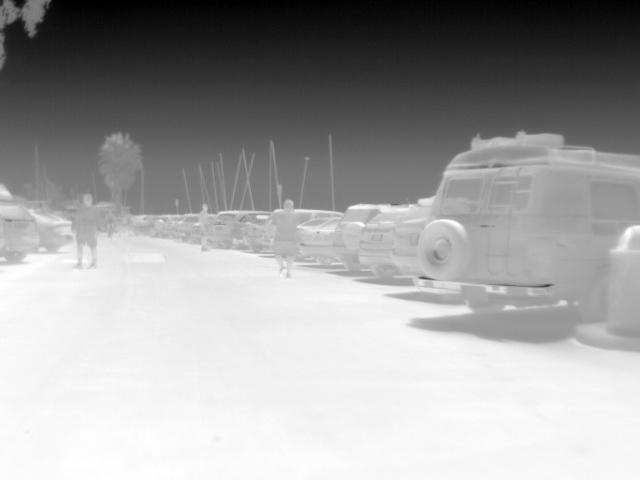car: (415, 144, 638, 316), (329, 204, 394, 274), (355, 206, 405, 280), (389, 200, 432, 279), (0, 183, 39, 262), (297, 218, 344, 268), (212, 208, 267, 250), (29, 207, 72, 255), (289, 208, 343, 227), (175, 214, 201, 243), (154, 214, 184, 236), (134, 214, 154, 235)
person: (72, 191, 103, 269), (270, 196, 298, 277), (197, 202, 213, 252), (104, 208, 117, 237)
